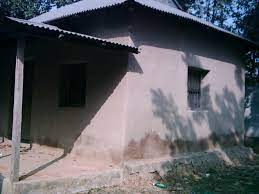Mud House: (38, 1, 247, 174)
